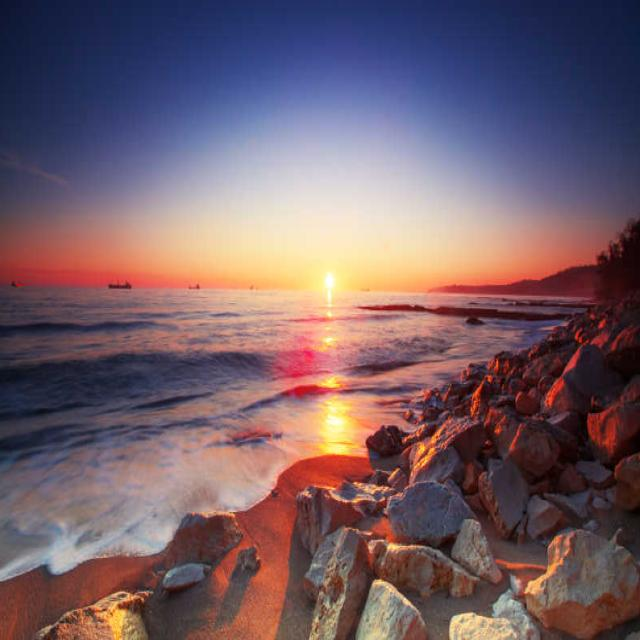reef: (366, 355, 516, 510)
